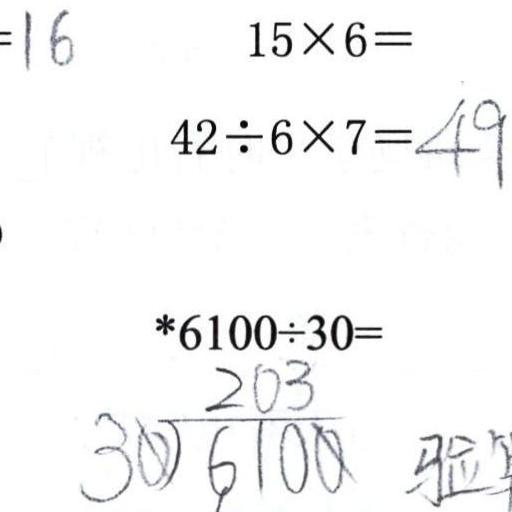ans: (411, 90, 508, 187), (14, 2, 74, 70)
